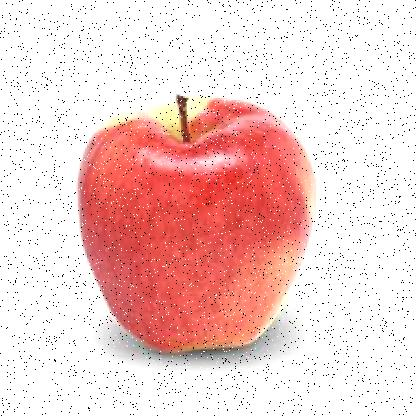apple: (72, 98, 322, 362)
